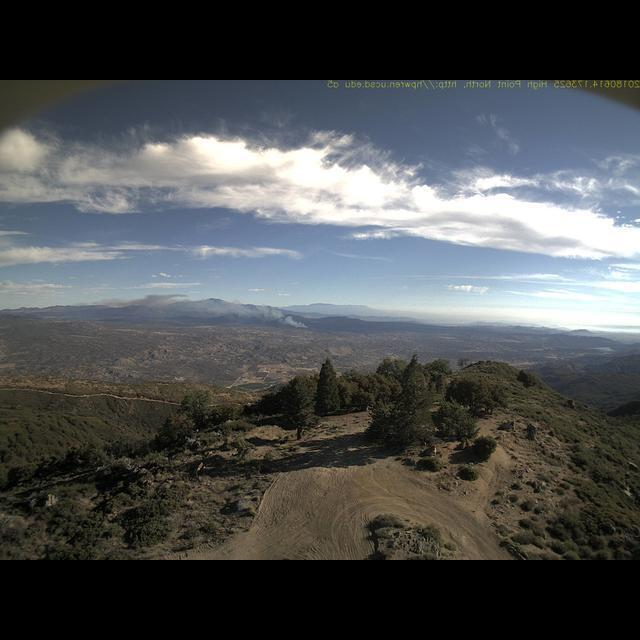Smoke: (137, 289, 314, 331)
